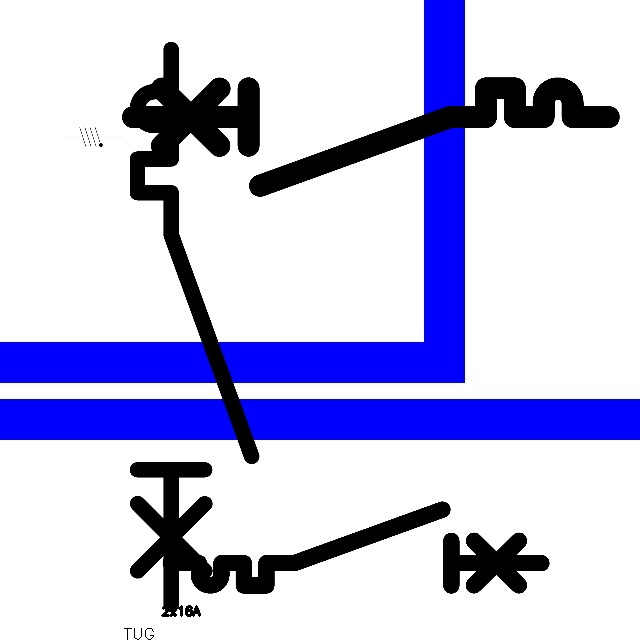interruptor_termomagnetico: (123, 35, 266, 618), (120, 76, 620, 198), (161, 500, 551, 595)
